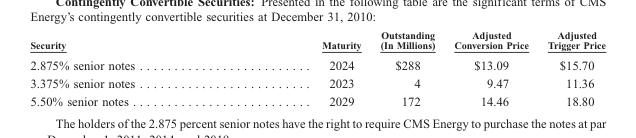table: (29, 28, 605, 107)
table column: (29, 28, 228, 107), (228, 28, 370, 107), (443, 28, 537, 107), (370, 28, 443, 107), (537, 28, 605, 107)
table column header: (29, 28, 605, 54)
table row: (29, 28, 605, 54), (29, 54, 605, 74), (29, 74, 605, 91), (29, 91, 605, 107)
